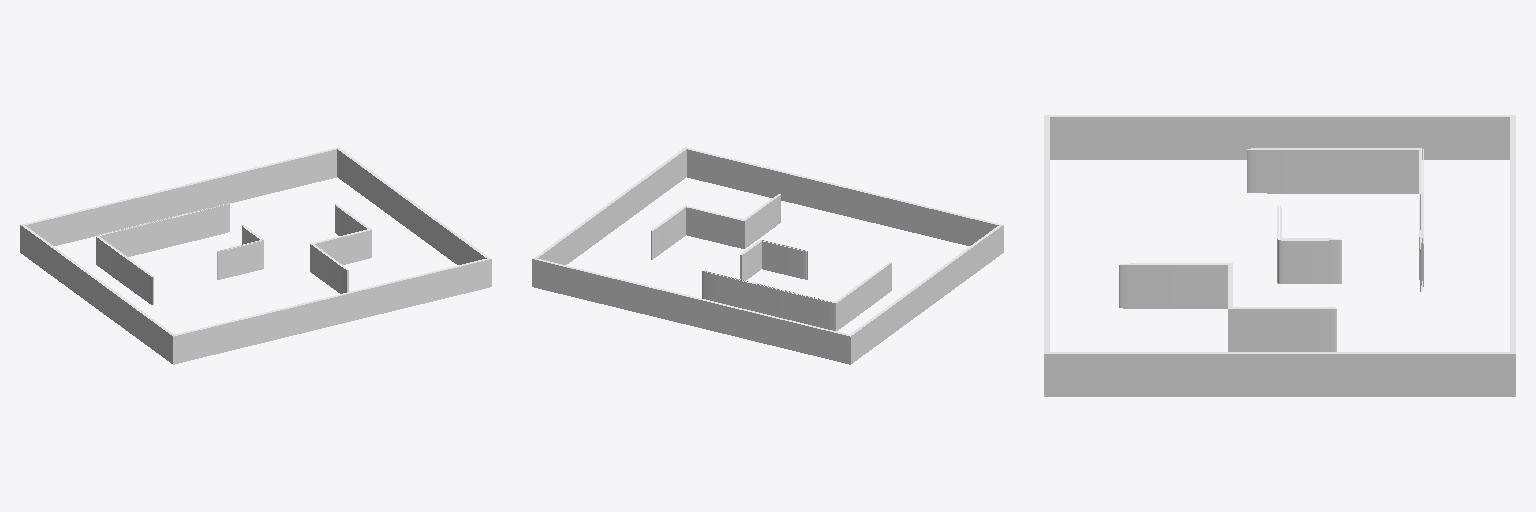
URDF robot description (simple_map_2):
<?xml version="0.0" ?>
<robot name="simple_map_2">
  <link name="baseLink">
    <inertial>
      <origin rpy="0 0 0" xyz="0 0 0"/>
       <mass value="0"/>
       <inertia ixx="0" ixy="0" ixz="0" iyy="0" iyz="0" izz="0" />
    </inertial>
    <visual>
      <origin rpy="1.5707963 0 0" xyz="0 0 0"/>
      <geometry>
		    <mesh filename="simple_map_2.obj" scale="0.4 0.4 0.4"/>
      </geometry>
		  <material name="white">
          <color rgba="1 1 1 1"/>
      </material>
    </visual>
    <collision  concave="yes">
      <origin rpy="1.5707963 0 0" xyz="0 0 0"/>
      <geometry>
          <mesh filename="simple_map_2.obj" scale="0.4 0.4 0.4"/>
      </geometry>
    </collision>
  </link>
</robot>

--- What the picture shows (computed from the rendered views, not written in the file) ---
The picture shows the robot from 3 angles, left to right: view 1: azimuth 30°, elevation 25°; view 2: azimuth 150°, elevation 25°; view 3: azimuth 270°, elevation 25°; orthographic projection.
Robot: simple_map_2 — 1 links, 0 joints (none); root link baseLink; default pose: all joints at 0.
Links seen in each view (by area): view 1: baseLink; view 2: baseLink; view 3: baseLink.
Boxes of the visible links, box(x1,y1,x2,y2) form: baseLink: box(20, 147, 491, 364); baseLink: box(532, 147, 1003, 364); baseLink: box(1044, 115, 1515, 396).
Size in the robot's own frame: 3.73 by 3.1 by 0.3155 metres.
Meshes: 1 distinct files referenced, 1 mesh visuals loaded (1 OBJ).
